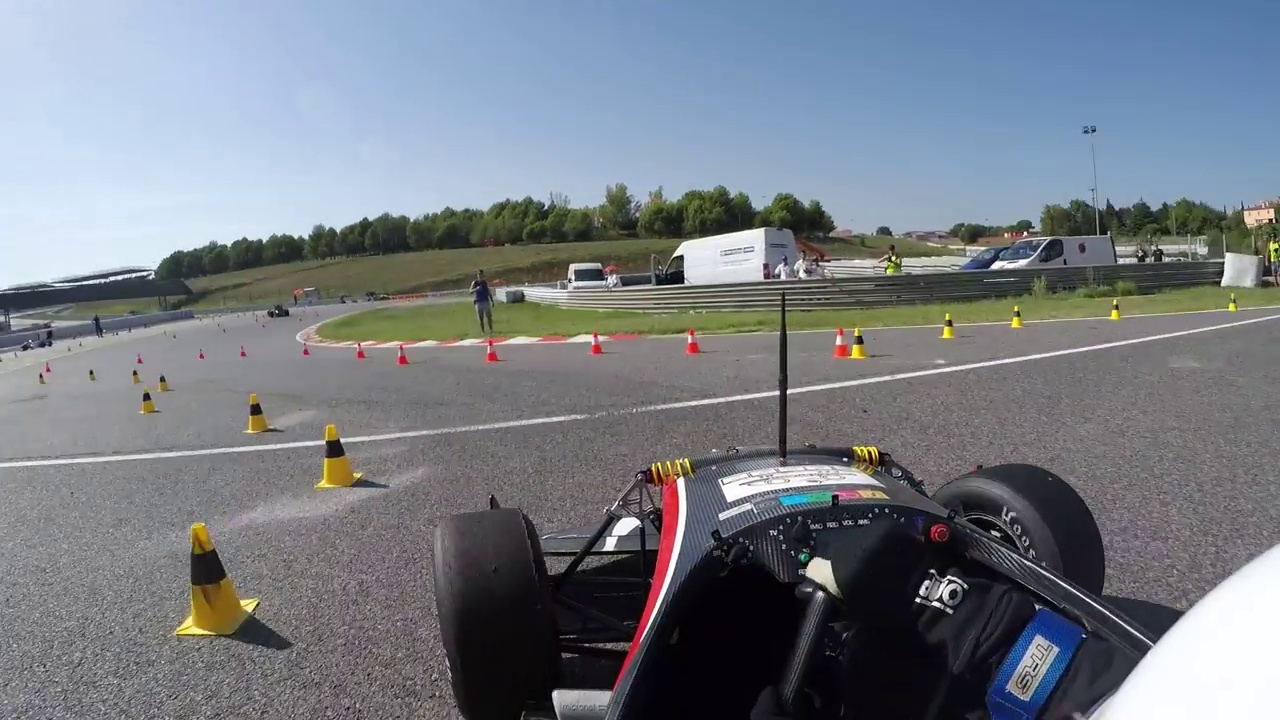Cone: (179, 520, 249, 638), (318, 423, 356, 489), (245, 390, 271, 436), (827, 325, 850, 356), (681, 331, 704, 356), (941, 312, 957, 338), (589, 329, 604, 356), (858, 326, 867, 359)
